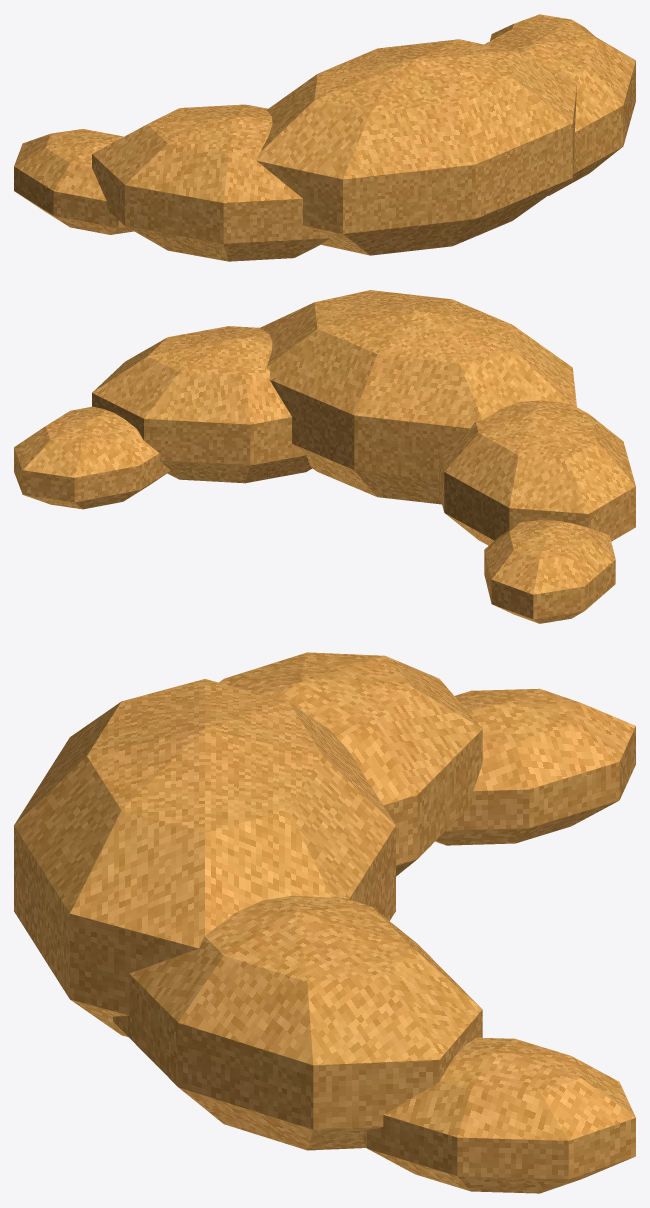
The picture shows the model from 3 angles, top to bottom: view 1: azimuth 30°, elevation 25°; view 2: azimuth 150°, elevation 25°; view 3: azimuth 270°, elevation 25°; orthographic projection. The views are drawn at different scales.
Parts seen in each view (by area): view 1: croissant; view 2: croissant; view 3: croissant.
Part boxes in pixels (box(x1,y1,x2,y2)): croissant: box(14, 14, 635, 261); croissant: box(14, 290, 635, 623); croissant: box(14, 652, 635, 1193).
Bounding box in the file's own units: 0.1419 × 0.042 × 0.0852.
1 material, 1 textured.
